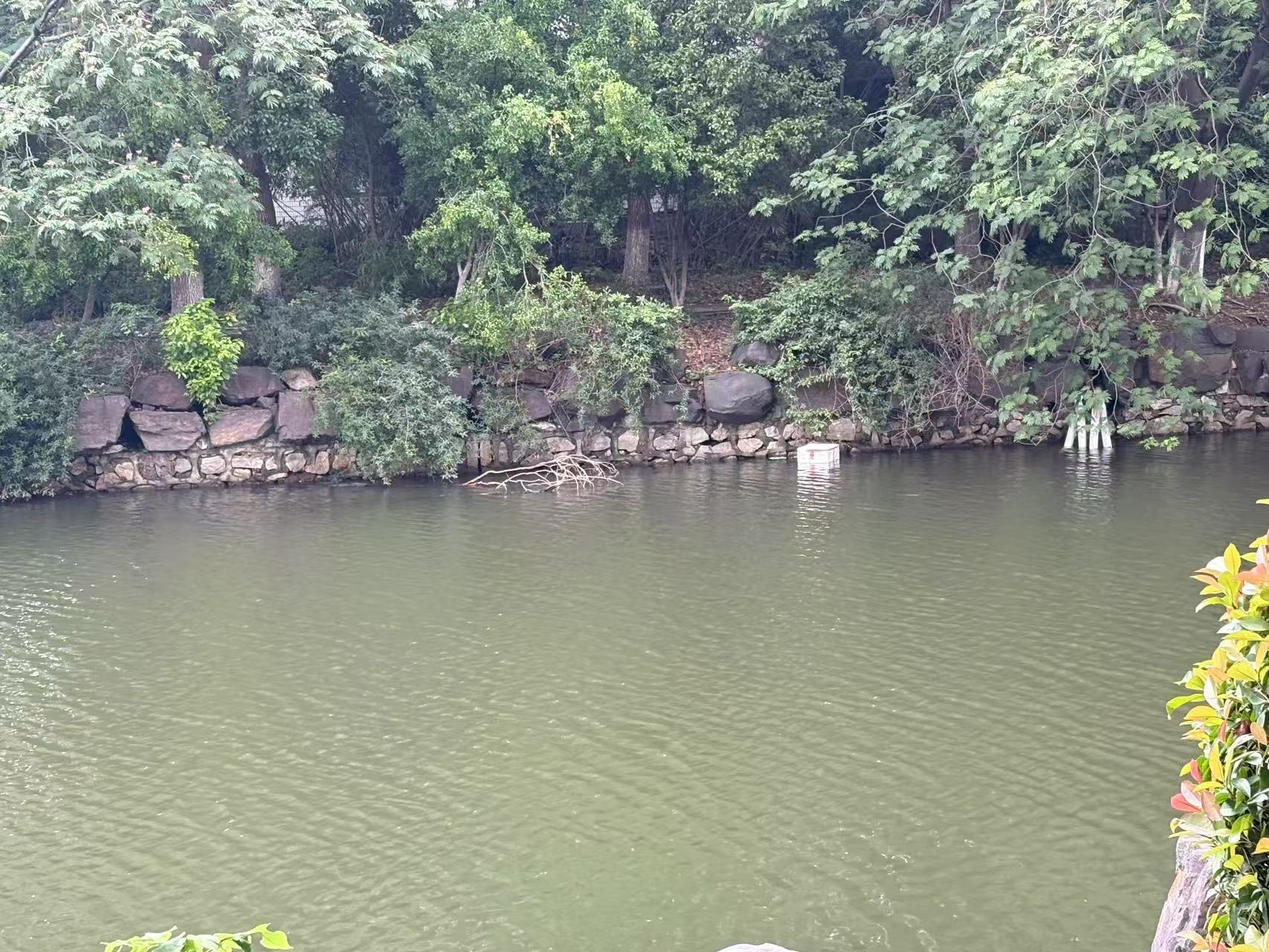Plastic wastes: (792, 440, 839, 473)
